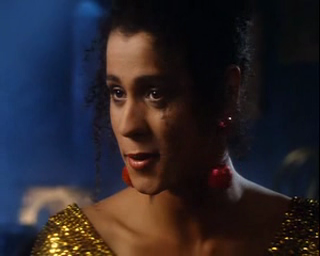cu: (1, 1, 320, 256)
face: (104, 43, 201, 196)
person: (30, 1, 320, 256)
